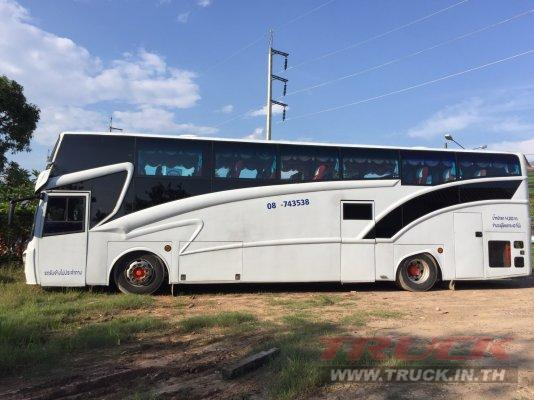bus: (21, 129, 529, 295)
